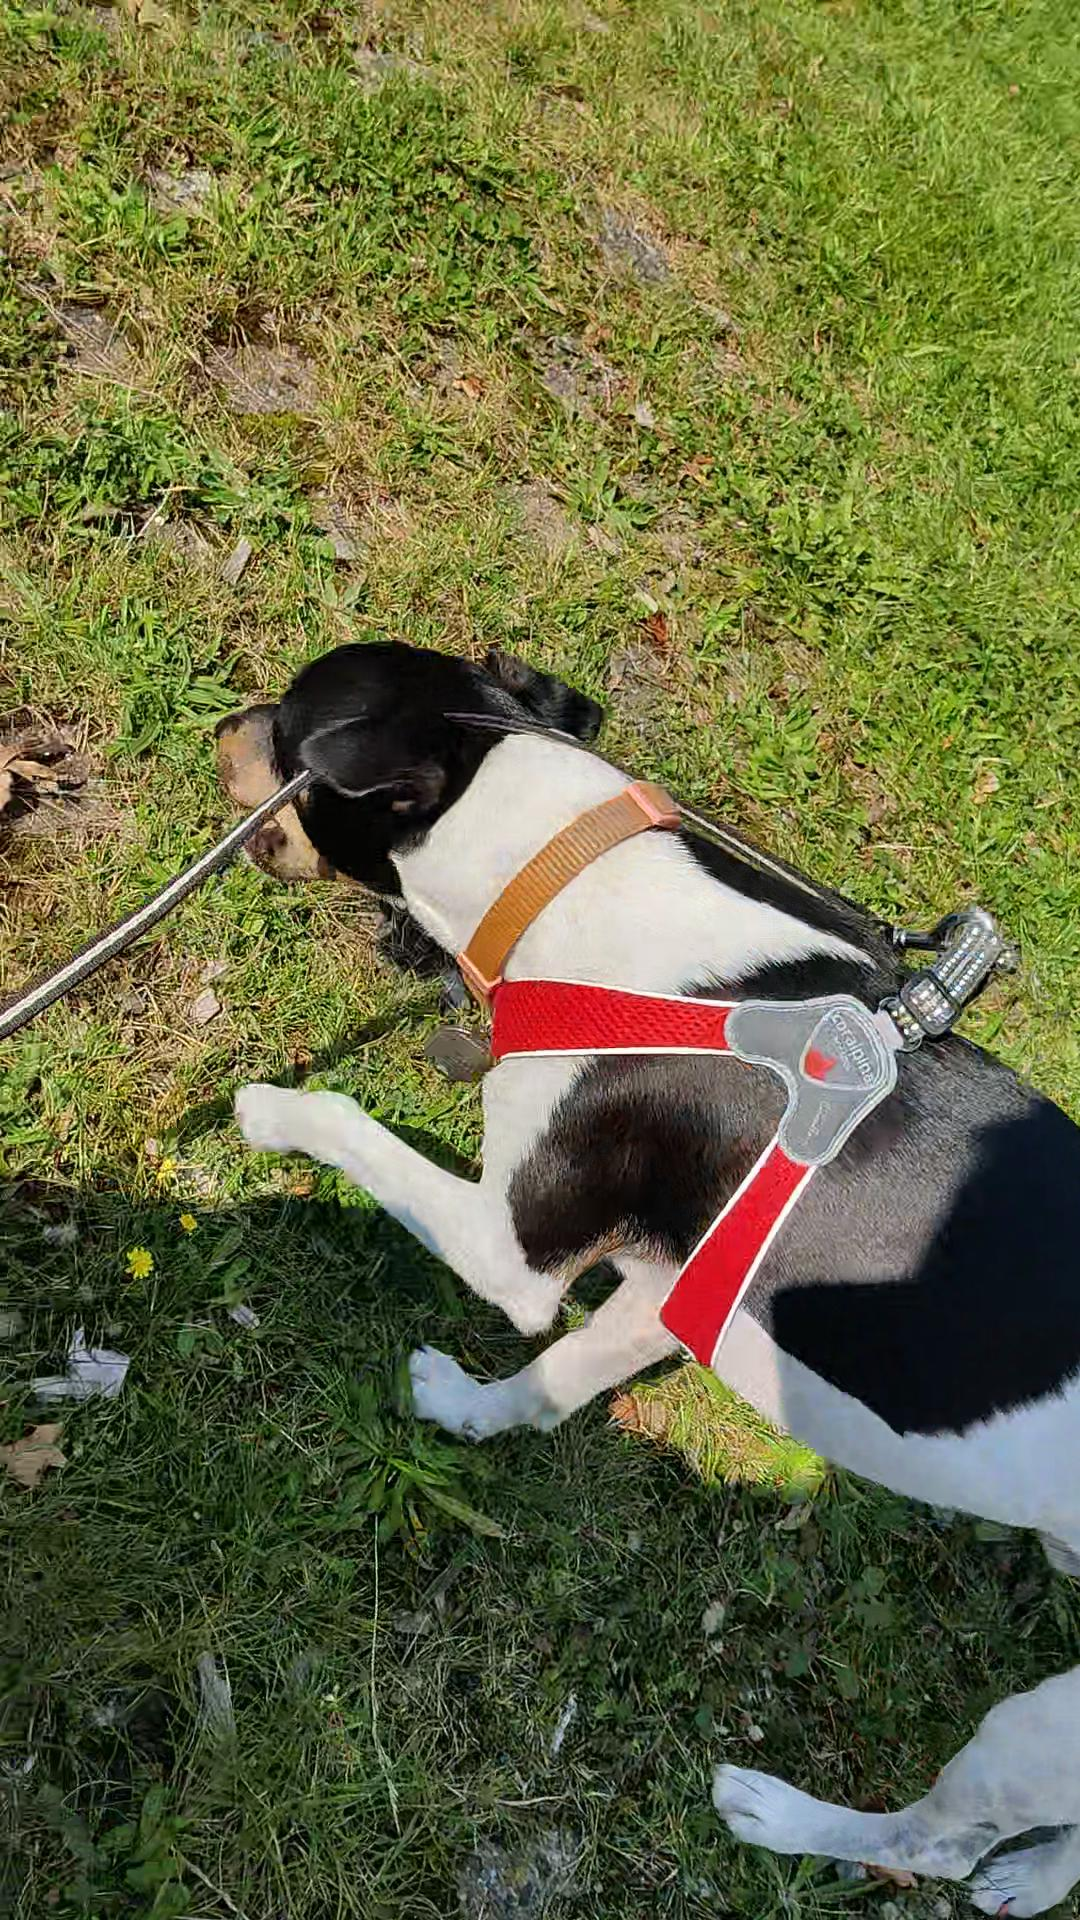Dog: (187, 621, 1079, 1919)
